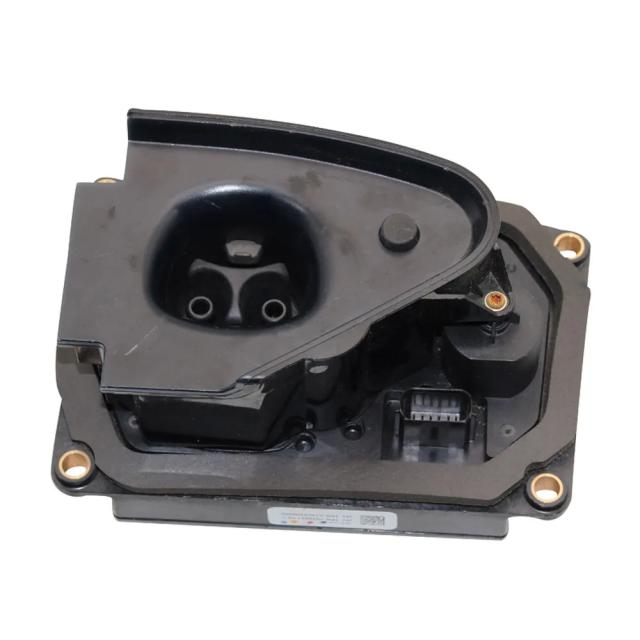Tesla Model-S-: (117, 130, 361, 407)
